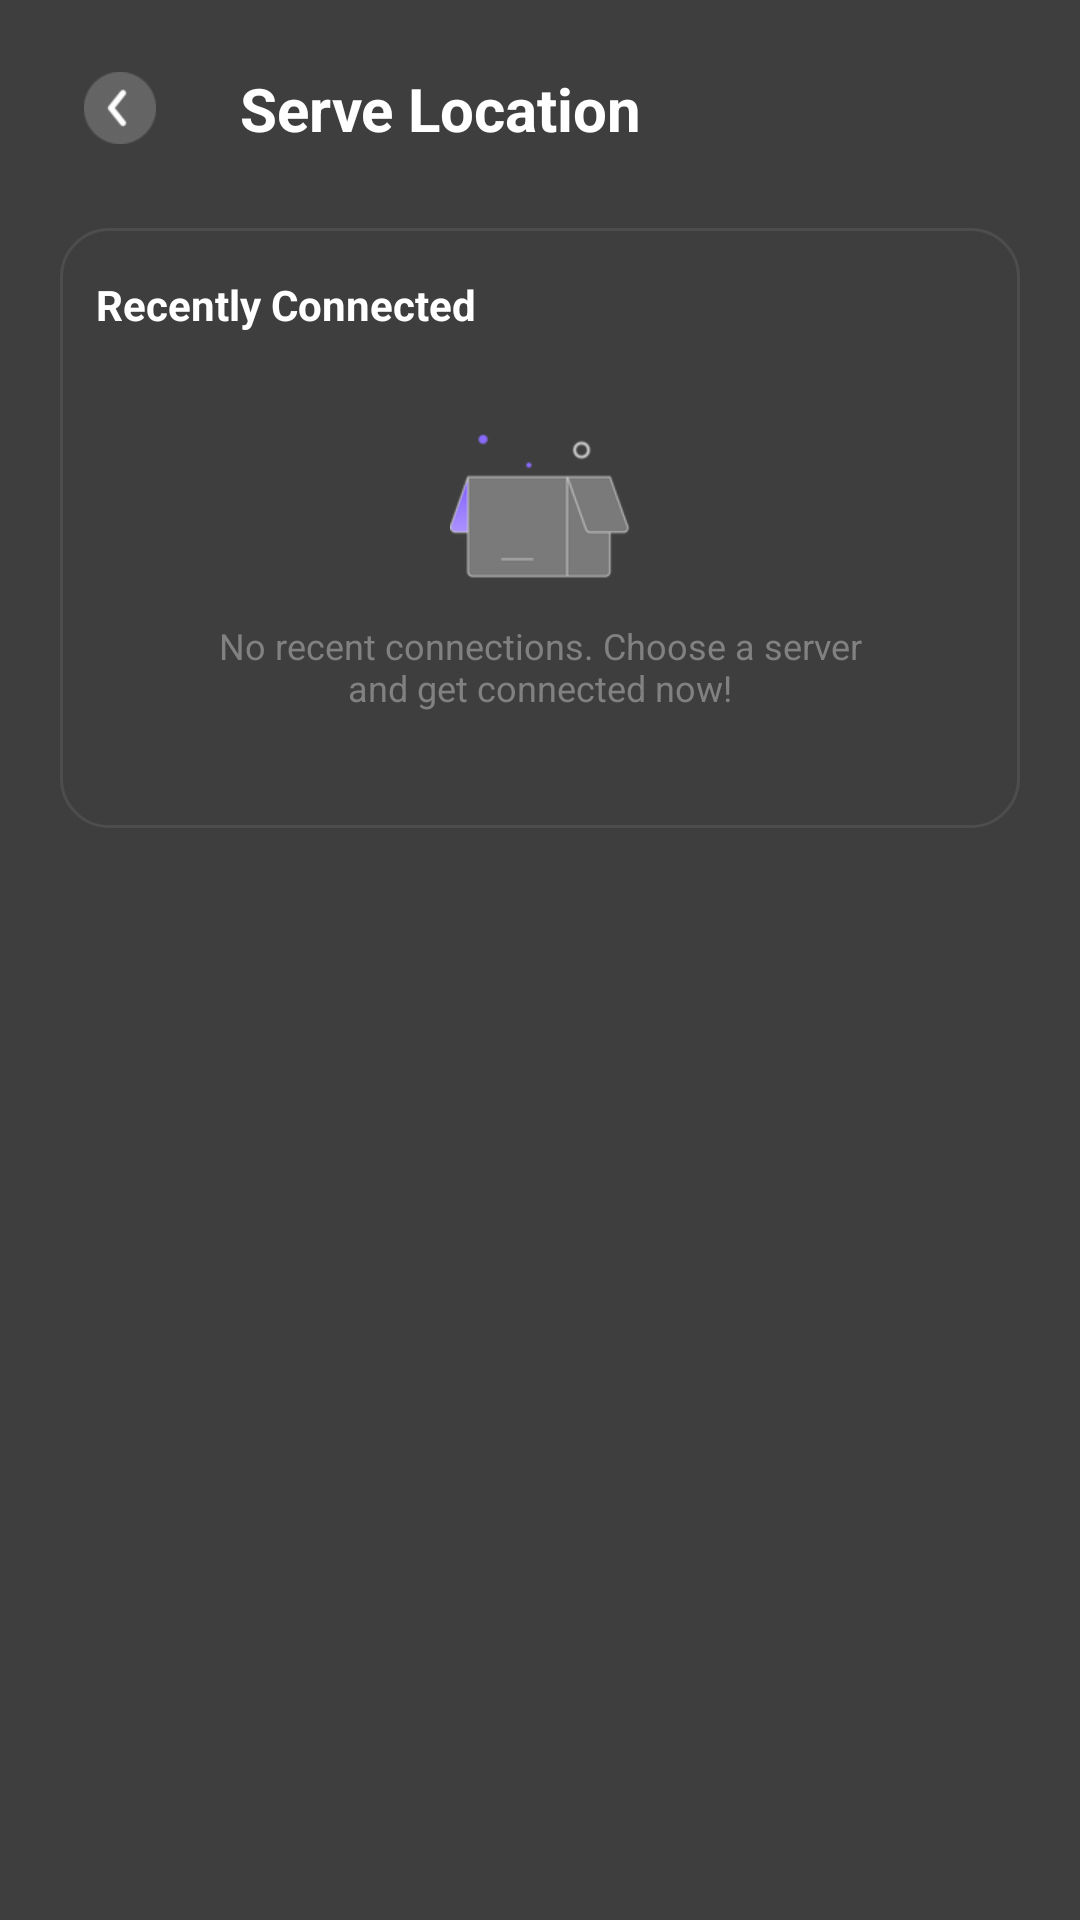

Icon bounding boxes for this 1080x1920 phone screenshot, format bbox=(x1, y1, x2, y2):
return: bbox=(84, 72, 156, 144)
